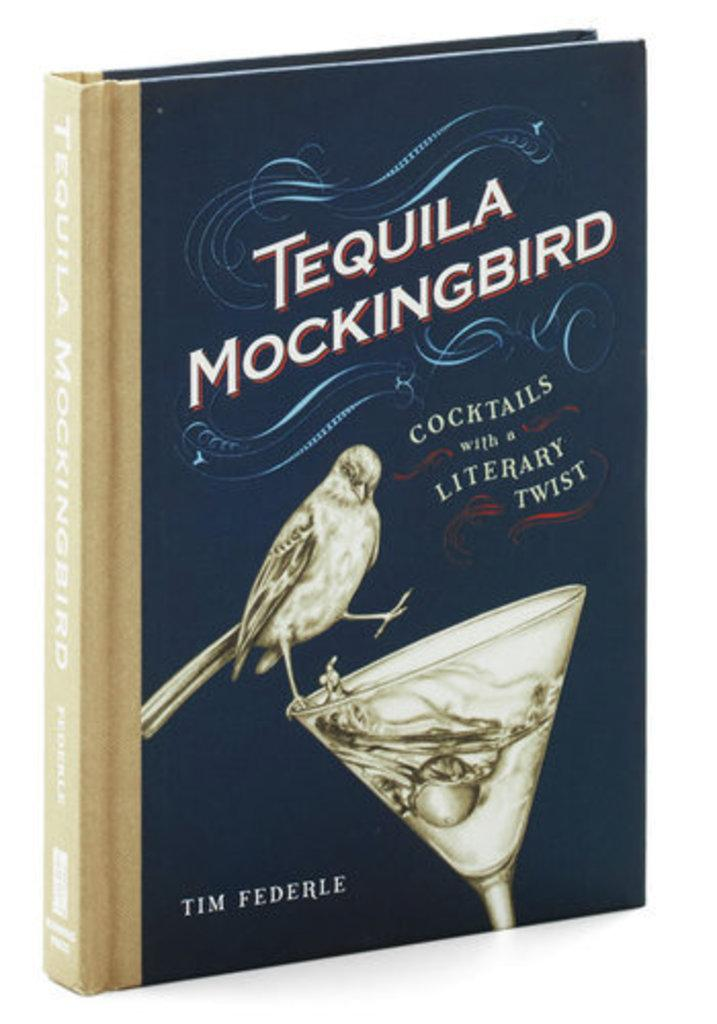book: (47, 27, 645, 999)
